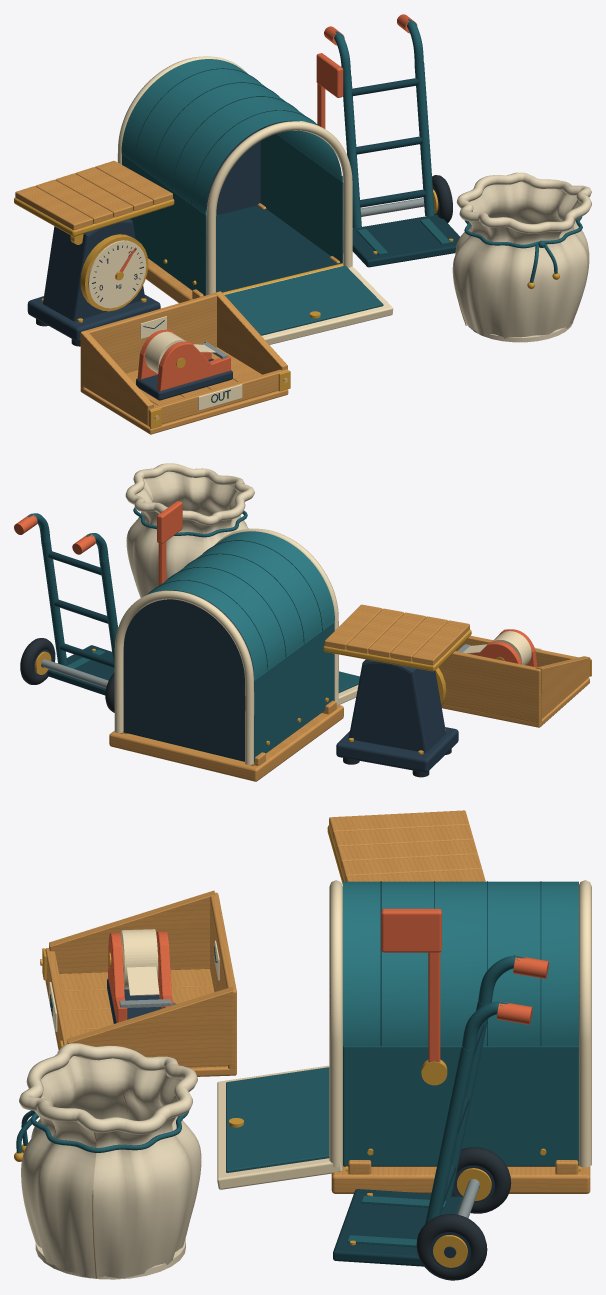
File: pocket-post.glb
3 renders of one model, top to bottom at view 1: azimuth 30°, elevation 25°; view 2: azimuth 150°, elevation 25°; view 3: azimuth 270°, elevation 25°, orthographic. The views are drawn at different scales.
Parts seen in each view (by area): view 1: Mailbox_Smooth_Roof, Mail_Sack_Fabric, Mailbox_Side_0.145, Mailbox_Interior_Floor, Mailbox_Loading_Door_Inset, Mailbox_Side_-0.145, Dispatch_Bin_Back, Scale_Cast_Body, Mailbox_Cream_Arch_0.164, Trolley_Loading_Toe, Mail_Sack_Rolled_Rim, Dispatch_Bin_Sloped_Side_-0.15 (+29 smaller); view 2: Mailbox_Back, Mailbox_Smooth_Roof, Mail_Sack_Fabric, Scale_Cast_Body, Mailbox_Side_-0.145, Dispatch_Bin_Back, Mailbox_Wood_Base, Mailbox_Cream_Arch_-0.163, Mail_Sack_Rolled_Rim, Scale_Base, Dispatch_Bin_Sloped_Side_-0.15, Scale_Platform_Plank_0 (+20 smaller); view 3: Mailbox_Smooth_Roof, Mail_Sack_Fabric, Mailbox_Side_0.145, Mailbox_Loading_Door_Inset, Dispatch_Bin_Sloped_Side_0.15, Dispatch_Bin_Sloped_Side_-0.15, Mail_Sack_Rolled_Rim, Trolley_Loading_Toe, Mailbox_Wood_Base, Mailbox_Cream_Arch_0.164, Mailbox_Cream_Arch_-0.163, Mailbox_Loading_Door_Rim (+30 smaller).
Part boxes in pixels (box(x1,y1,x2,y2)): Mailbox_Smooth_Roof: box(121, 59, 341, 214); Mail_Sack_Fabric: box(452, 181, 589, 338); Mailbox_Side_0.145: box(260, 126, 343, 263); Mailbox_Interior_Floor: box(216, 205, 340, 292); Mailbox_Loading_Door_Inset: box(224, 265, 383, 335); Mailbox_Side_-0.145: box(122, 154, 206, 295); Dispatch_Bin_Back: box(80, 293, 216, 388); Scale_Cast_Body: box(43, 219, 144, 321); Mailbox_Cream_Arch_0.164: box(206, 121, 352, 294); Trolley_Loading_Toe: box(352, 214, 459, 267); Mail_Sack_Rolled_Rim: box(456, 172, 591, 233); Dispatch_Bin_Sloped_Side_-0.15: box(81, 330, 153, 425); Mailbox_Back: box(123, 594, 253, 760); Mailbox_Smooth_Roof: box(147, 531, 334, 679); Mail_Sack_Fabric: box(126, 471, 248, 597); Scale_Cast_Body: box(348, 659, 446, 752); Mailbox_Side_-0.145: box(254, 622, 334, 761); Dispatch_Bin_Back: box(438, 651, 541, 723); Mailbox_Wood_Base: box(109, 705, 343, 781); Mailbox_Cream_Arch_-0.163: box(114, 590, 254, 764); Mail_Sack_Rolled_Rim: box(125, 463, 254, 525); Scale_Base: box(336, 727, 458, 772); Dispatch_Bin_Sloped_Side_-0.15: box(536, 656, 590, 719); Scale_Platform_Plank_0: box(412, 620, 469, 665); Mailbox_Smooth_Roof: box(343, 881, 578, 1046); Mail_Sack_Fabric: box(21, 1056, 201, 1278); Mailbox_Side_0.145: box(343, 1046, 578, 1166); Mailbox_Loading_Door_Inset: box(226, 1067, 329, 1172); Dispatch_Bin_Sloped_Side_0.15: box(67, 986, 233, 1066); Dispatch_Bin_Sloped_Side_-0.15: box(49, 890, 214, 973); Mail_Sack_Rolled_Rim: box(19, 1043, 197, 1134); Trolley_Loading_Toe: box(333, 1189, 462, 1266); Mailbox_Wood_Base: box(331, 1165, 590, 1193); Mailbox_Cream_Arch_0.164: box(329, 880, 342, 1167); Mailbox_Cream_Arch_-0.163: box(579, 880, 591, 1167); Mailbox_Loading_Door_Rim: box(217, 1065, 342, 1189).
Bounding box in the file's own units: 0.9946 × 0.413 × 0.7592.
Materials: 13 (2 with a texture image).
